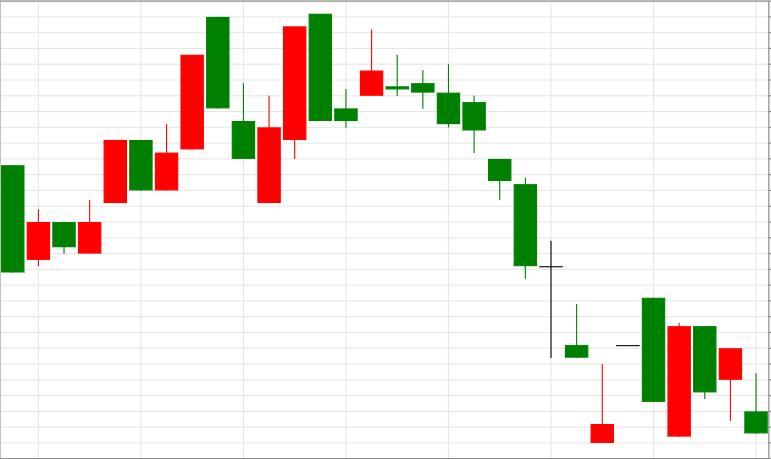inverse_hammer_rise: (463, 95, 614, 444)
